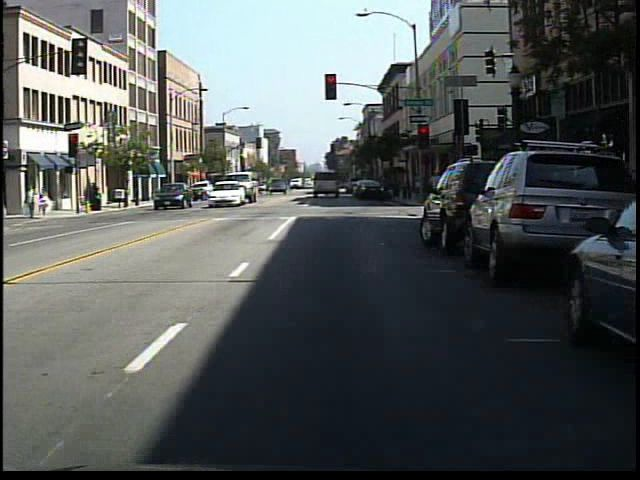person: (22, 182, 41, 223), (38, 186, 56, 221)
